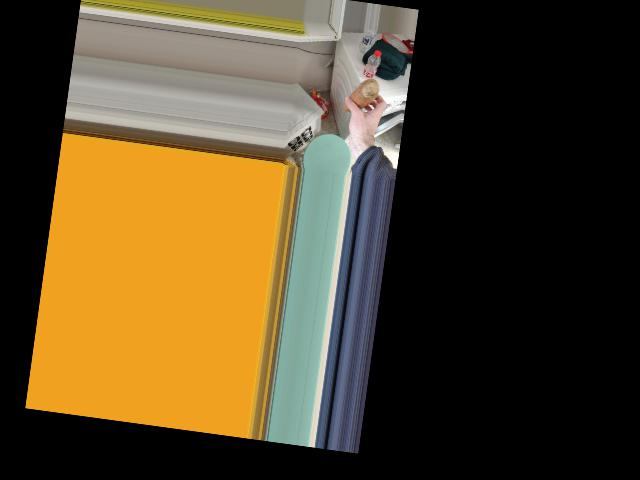sweet_potato: (341, 75, 378, 114)
